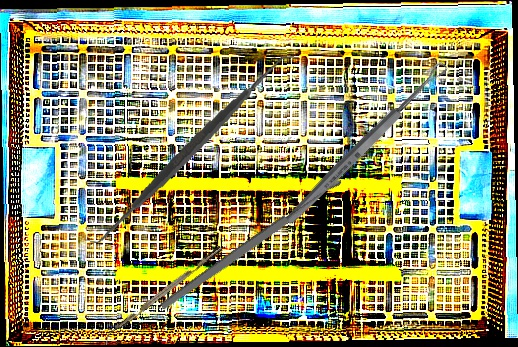Chopper: (99, 245, 228, 347)
Spatula Surgical: (84, 38, 300, 260)
Surgical Spoon: (282, 59, 451, 228), (158, 176, 345, 312)
